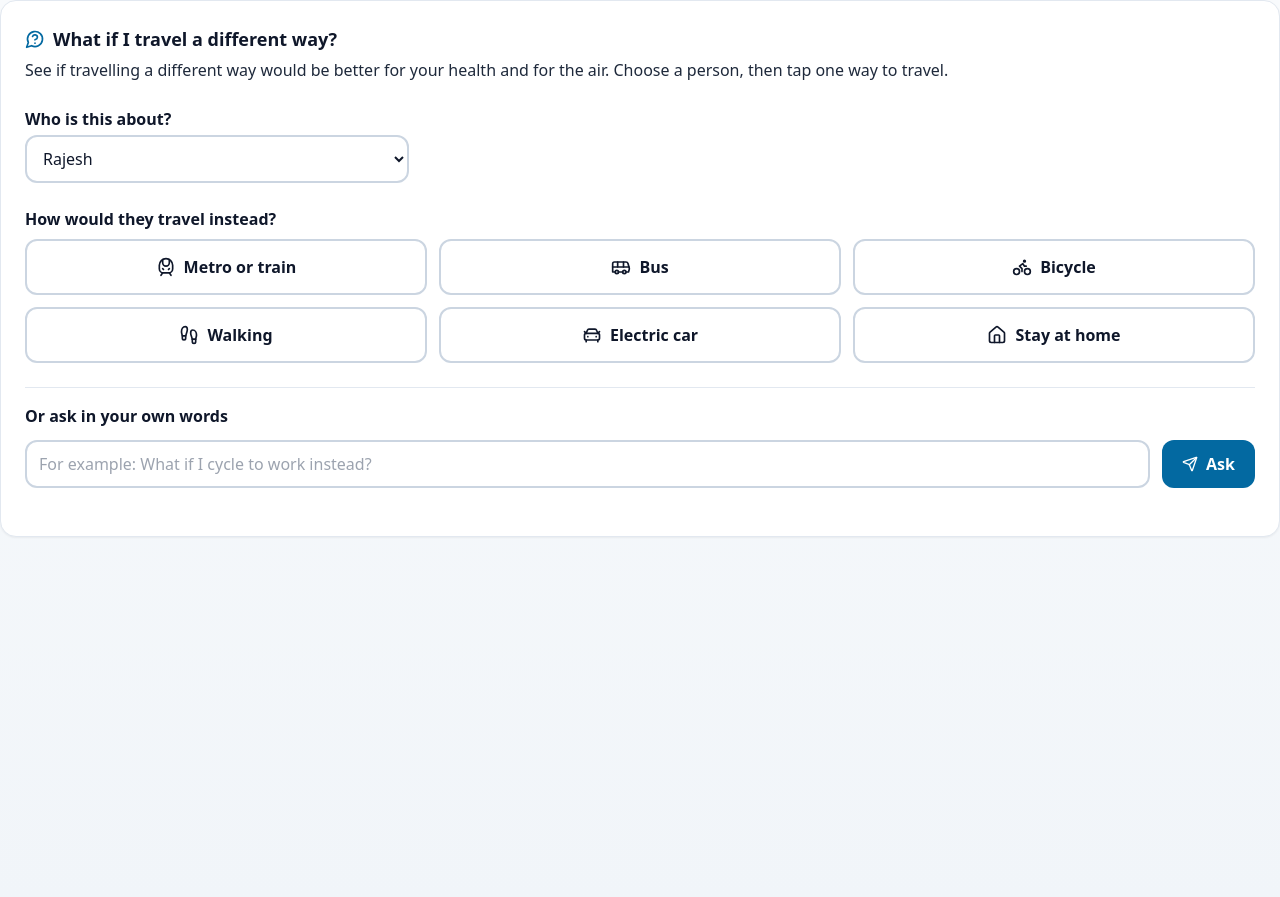
Scenario: WhatIfPanel › shows a worse verdict in words
The width and height of the screenshot is (1280, 897).
What coordinates should you click on to do the following:
click the button "Metro or train"
I would click on:
 (226, 267)
Its box is [25,239,427,295].
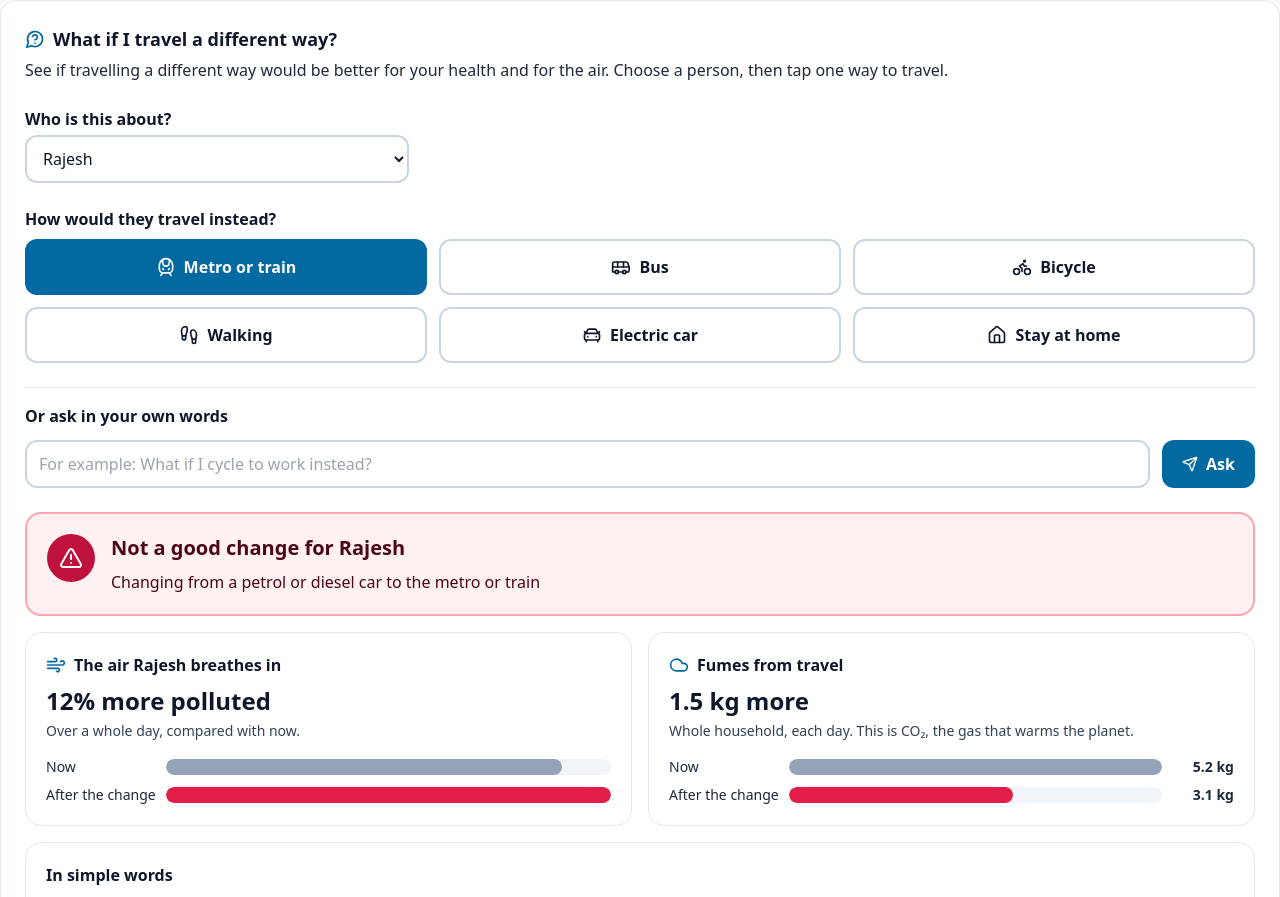
Expected: the heading "Not a good change for Rajesh" is shown, [111,534,405,561]
